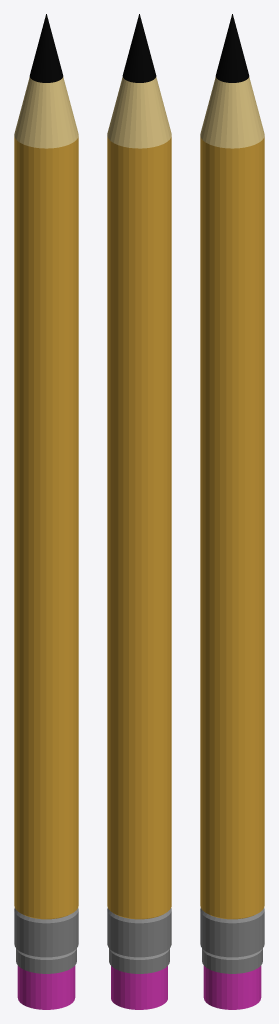
Rendered from PENCIL.glb.
3 views of the same model, side by side, from view 1: azimuth 90°, elevation 25°; view 2: azimuth 150°, elevation 25°; view 3: azimuth 270°, elevation 25° (orthographic).
Parts seen in each view (by area): view 1: main part, metal, wood tip, rubber, lead tip; view 2: main part, metal, wood tip, rubber, lead tip; view 3: main part, metal, wood tip, rubber, lead tip.
Boxes of the visible parts, box(x1,y1,x2,y2) form: main part: box(14, 136, 78, 919); metal: box(14, 908, 78, 973); wood tip: box(14, 77, 78, 148); rubber: box(17, 965, 75, 1009); lead tip: box(29, 14, 63, 82); main part: box(107, 136, 171, 919); metal: box(107, 908, 171, 973); wood tip: box(107, 77, 171, 148); rubber: box(111, 966, 167, 1009); lead tip: box(122, 14, 156, 82); main part: box(200, 136, 264, 919); metal: box(200, 908, 264, 973); wood tip: box(200, 77, 264, 148); rubber: box(203, 965, 261, 1009); lead tip: box(215, 14, 249, 82).
Size of the model in its own units: 0.1143 by 1.92 by 0.1143.
